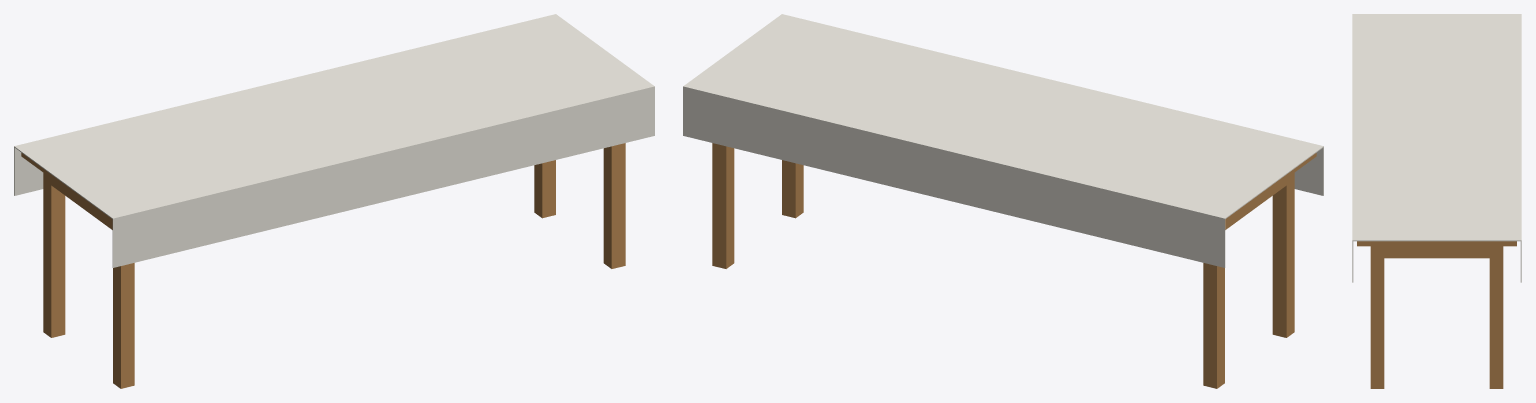
The picture shows the model from 3 angles, left to right: view 1: azimuth 30°, elevation 25°; view 2: azimuth 150°, elevation 25°; view 3: azimuth 270°, elevation 25°; orthographic projection. The views are drawn at different scales.
Visible parts, largest first — view 1: parametric-variant-table-2nd-pub-4b5fc20880a2f68b6221; view 2: parametric-variant-table-2nd-pub-4b5fc20880a2f68b6221; view 3: parametric-variant-table-2nd-pub-4b5fc20880a2f68b6221.
Boxes of the visible parts, <box> form: parametric-variant-table-2nd-pub-4b5fc20880a2f68b6221: <box>14,14,654,388</box>; parametric-variant-table-2nd-pub-4b5fc20880a2f68b6221: <box>683,14,1323,388</box>; parametric-variant-table-2nd-pub-4b5fc20880a2f68b6221: <box>1352,14,1521,388</box>.
Size of the model in its own units: 2.34 by 0.754 by 0.74.
